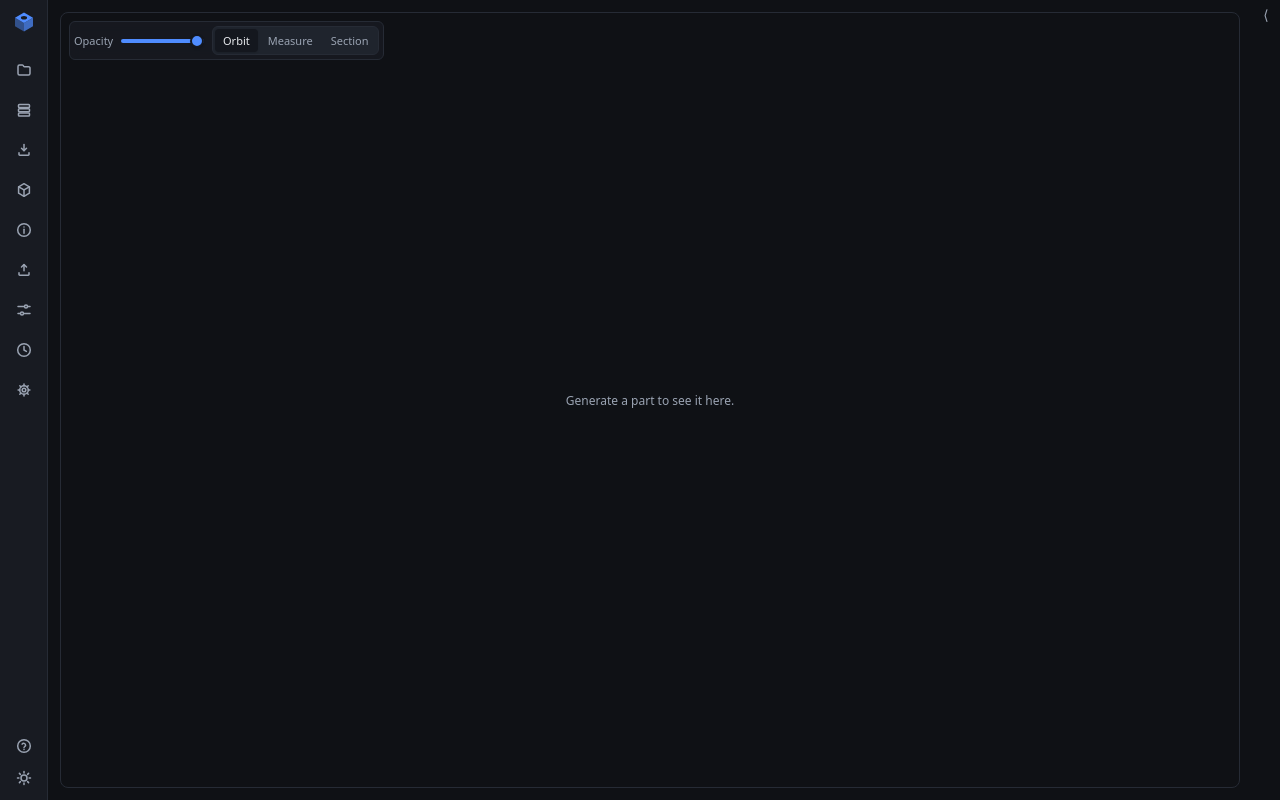
Test case: App shell — crossing the breakpoint › hands the chat back to its own column when the window widens
Step 1. Click the button named "Open chat" → [1266, 14], box [1252,0,1279,28]
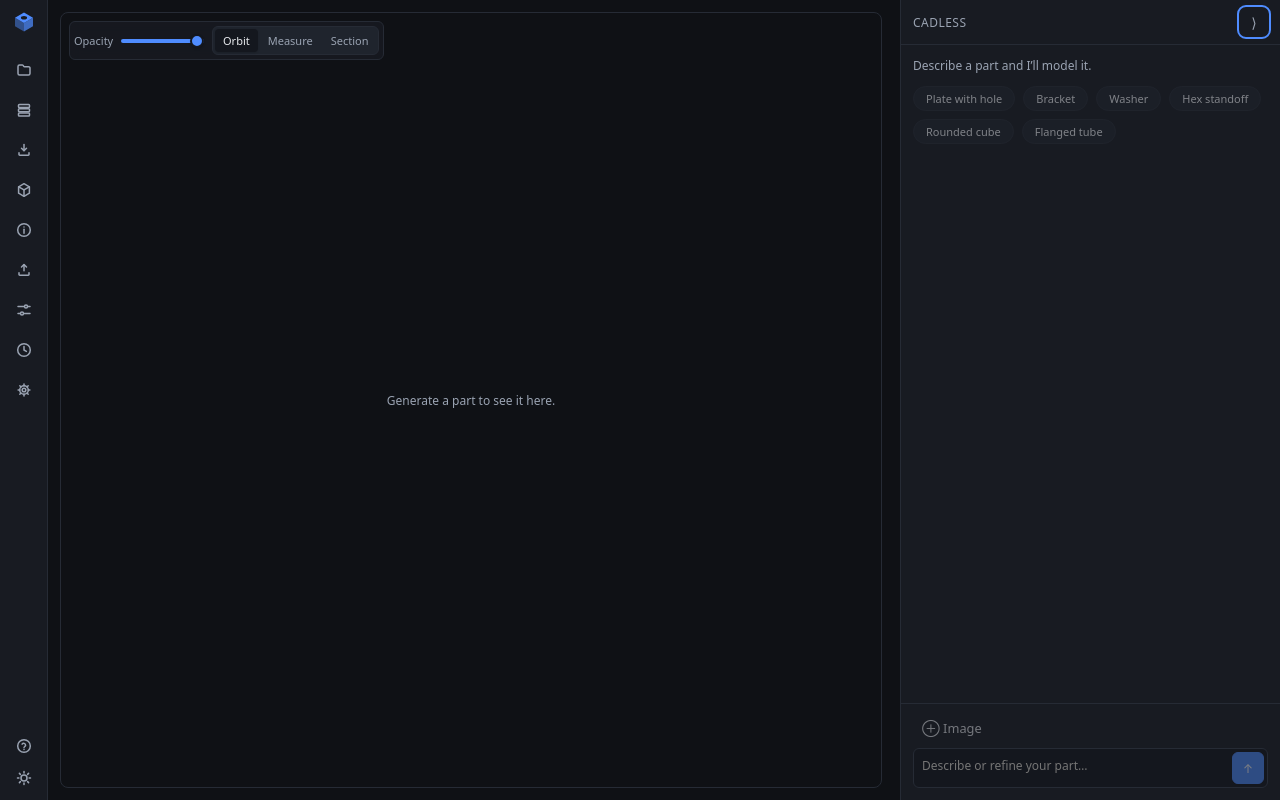
Result: the element named "Resize chat panel" is shown at [894,0,900,799]
